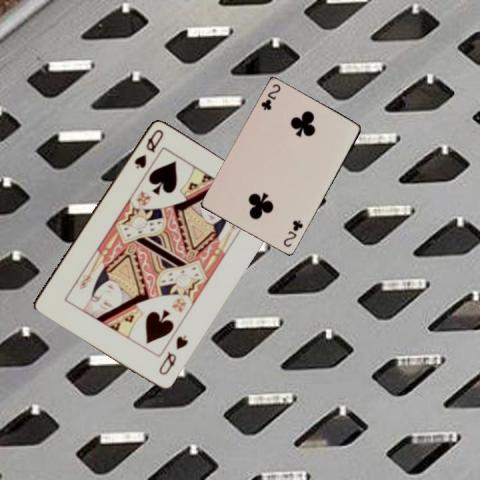2c: (280, 217, 304, 249), (258, 81, 282, 112)
Qs: (131, 125, 165, 170), (156, 332, 190, 376)
